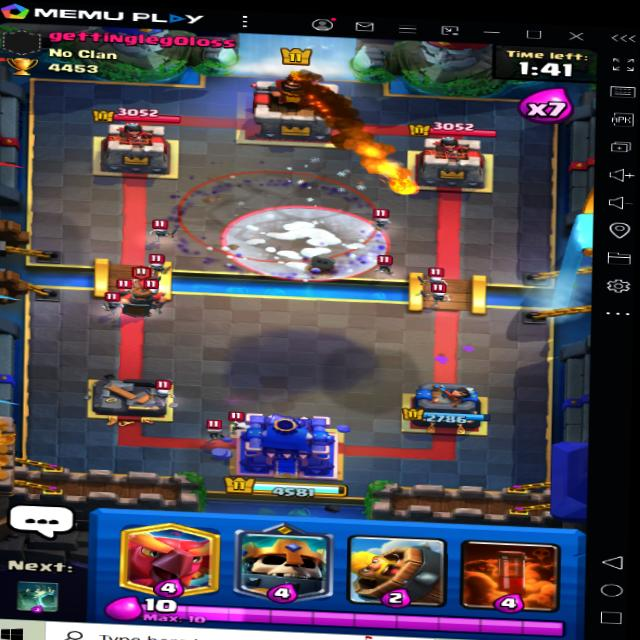earthquake: (174, 161, 377, 260)
fireball: (364, 158, 427, 200)
freeze: (221, 203, 389, 281)
royal-recruits: (118, 285, 168, 324)
skeleton: (417, 282, 456, 312), (221, 409, 255, 437), (99, 290, 125, 315), (153, 388, 182, 407), (147, 221, 174, 241), (203, 423, 229, 441), (416, 268, 443, 285), (150, 254, 171, 274), (374, 257, 397, 275), (373, 207, 393, 227)
